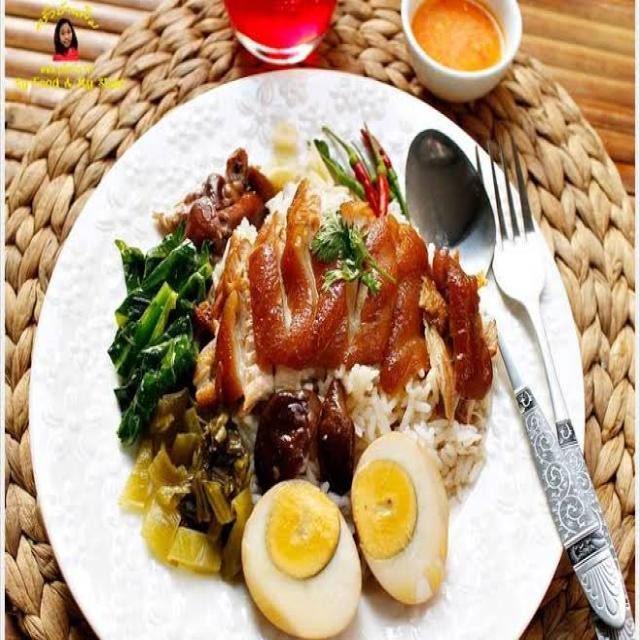carb: (386, 374, 486, 489)
meat: (240, 226, 490, 407)
stewed pork leg on rice: (100, 158, 506, 606)
vegetable: (112, 246, 210, 412)
